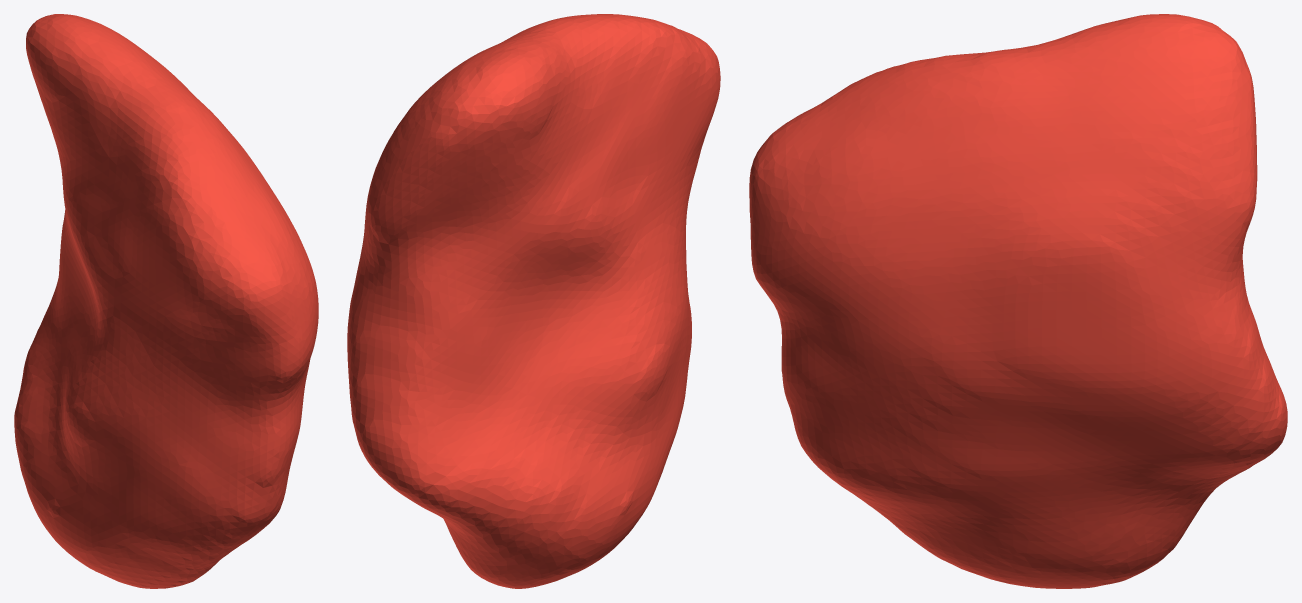
The model's file is case_1_stroke.gltf.
3 views of the same model, side by side, from view 1: azimuth 30°, elevation 25°; view 2: azimuth 150°, elevation 25°; view 3: azimuth 270°, elevation 25° (orthographic). The views are drawn at different scales.
Visible parts, largest first — view 1: stroke; view 2: stroke; view 3: stroke.
Part boxes in pixels (bbox=[...]): stroke: bbox=[14, 14, 318, 588]; stroke: bbox=[347, 14, 720, 588]; stroke: bbox=[749, 14, 1287, 588].
Size of the model in its own units: 0.8233 by 1.98 by 1.72.
